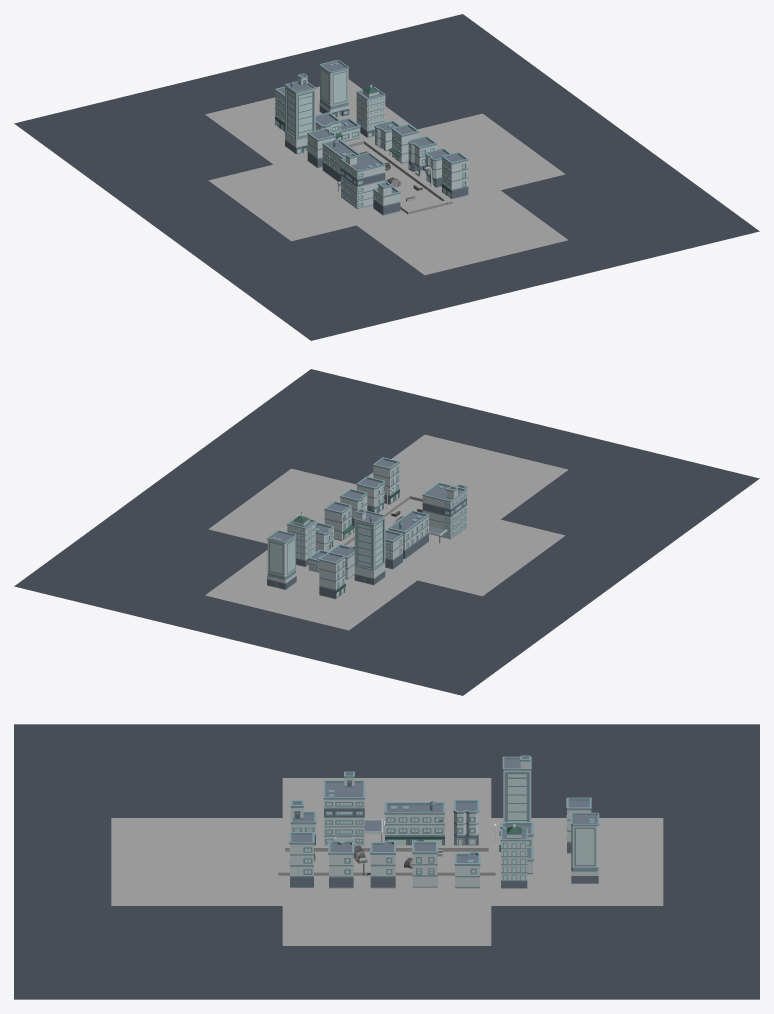
Rendered from street_level_06.gltf.
The picture shows the model from 3 angles, top to bottom: view 1: azimuth 30°, elevation 25°; view 2: azimuth 150°, elevation 25°; view 3: azimuth 270°, elevation 25°; orthographic projection. The views are drawn at different scales.
Parts seen in each view (by area): view 1: road_side_render_mesh1, Physics_mesh_89, Physics_mesh_88, Physics_mesh_87, Physics_mesh_90, building_render_mesh6, building_render_mesh9, building_render_mesh8, building_render_mesh7, Physics_mesh_02, building_render_mesh10, building_render_mesh2 (+7 smaller); view 2: road_side_render_mesh1, Physics_mesh_89, Physics_mesh_88, Physics_mesh_90, Physics_mesh_87, building_render_mesh6, building_render_mesh9, building_render_mesh8, hostital_render_mesh, building_render_mesh12, building_render_mesh7, building_render_mesh10 (+4 smaller); view 3: road_side_render_mesh1, Physics_mesh_89, Physics_mesh_87, Physics_mesh_90, Physics_mesh_88, building_render_mesh9, hostital_render_mesh, building_render_mesh8, building_render_mesh6, building_render_mesh7, building_render_mesh10, Physics_mesh_02 (+10 smaller).
Boxes of the visible parts, x1,y1,x2,y2 form: road_side_render_mesh1: (14, 14, 759, 340); Physics_mesh_89: (356, 190, 568, 275); Physics_mesh_88: (208, 156, 405, 241); Physics_mesh_87: (370, 113, 565, 201); Physics_mesh_90: (205, 79, 416, 164); building_render_mesh6: (284, 73, 315, 154); building_render_mesh9: (337, 152, 385, 208); building_render_mesh8: (319, 60, 349, 116); building_render_mesh7: (356, 82, 385, 137); Physics_mesh_02: (351, 144, 441, 208); building_render_mesh10: (441, 152, 468, 199); building_render_mesh2: (315, 112, 360, 141); road_side_render_mesh1: (14, 369, 759, 695); Physics_mesh_89: (367, 434, 568, 519); Physics_mesh_88: (385, 512, 565, 596); Physics_mesh_90: (205, 550, 417, 630); Physics_mesh_87: (208, 468, 402, 551); building_render_mesh6: (354, 509, 385, 585); building_render_mesh9: (422, 482, 467, 543); building_render_mesh8: (267, 530, 296, 589); hostital_render_mesh: (388, 510, 429, 559); building_render_mesh12: (319, 552, 345, 599); building_render_mesh7: (287, 511, 316, 566); building_render_mesh10: (373, 457, 399, 504); road_side_render_mesh1: (14, 724, 759, 999); Physics_mesh_89: (111, 818, 283, 905); Physics_mesh_87: (282, 875, 491, 945); Physics_mesh_90: (491, 818, 663, 905); Physics_mesh_88: (282, 778, 491, 845); building_render_mesh9: (323, 771, 382, 845); hostital_render_mesh: (383, 801, 445, 845); building_render_mesh8: (571, 812, 599, 883); building_render_mesh6: (499, 755, 531, 835); building_render_mesh7: (500, 821, 527, 888); building_render_mesh10: (289, 832, 314, 887); Physics_mesh_02: (285, 851, 488, 869).
Size of the model in its own units: 63.09 by 10.14 by 72.32.
